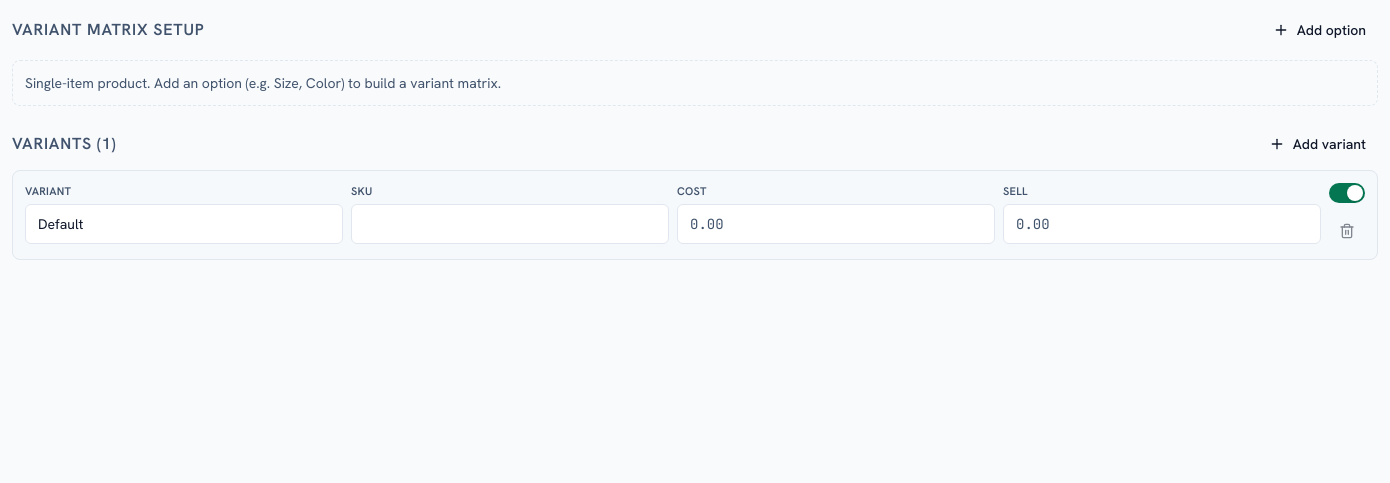
Test: VariantMatrixEditor › generates variants from option values
The width and height of the screenshot is (1390, 483).
Expected: the number of fields labelled "Variant" is 1, x1=25 y1=204 x2=343 y2=244
Click the button "Add option" at (1319, 30), box x1=1261 y1=12 x2=1378 y2=48
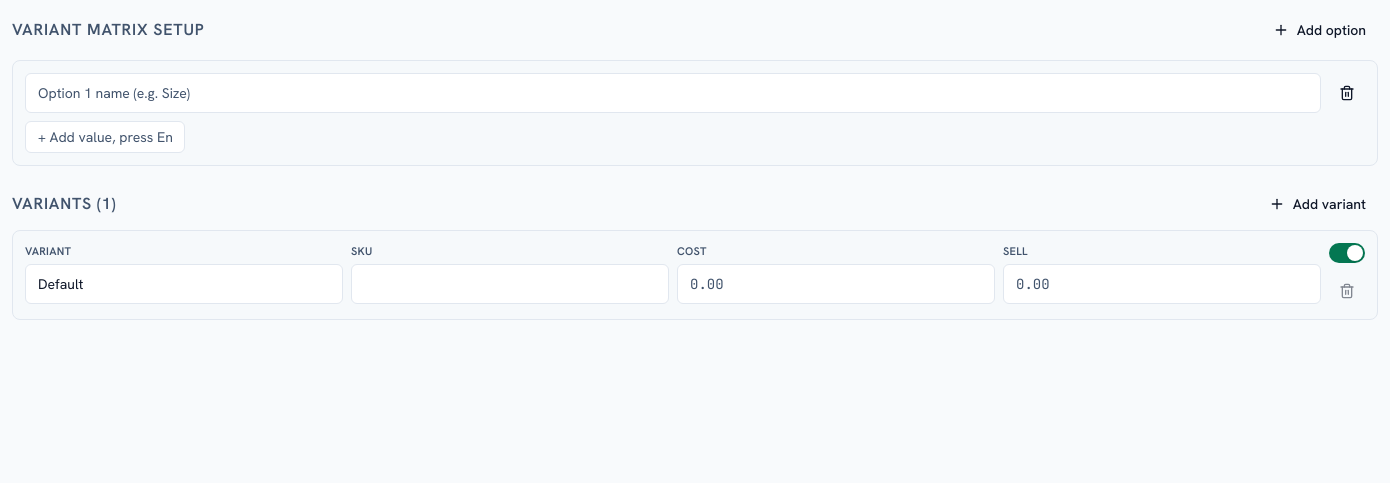
Type "Size" into the field labelled "Option 1 name" at (673, 93), box x1=25 y1=73 x2=1321 y2=113
Type "12oz" into the field named "Add value to option 1" at (105, 137), box x1=25 y1=121 x2=185 y2=153
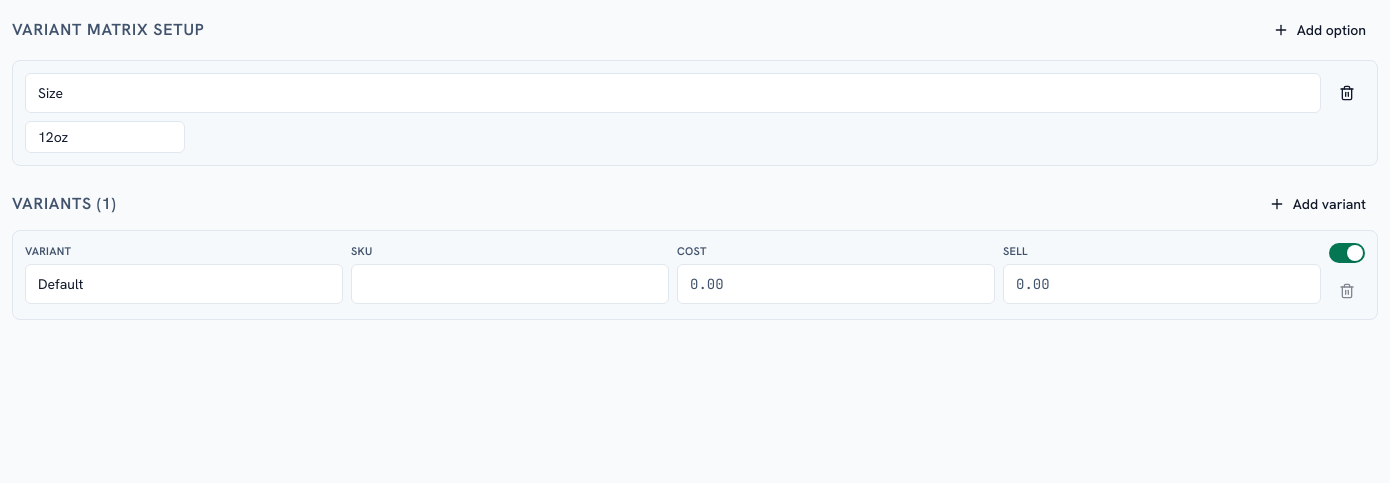
Press Enter in the field named "Add value to option 1", box x1=25 y1=121 x2=185 y2=153
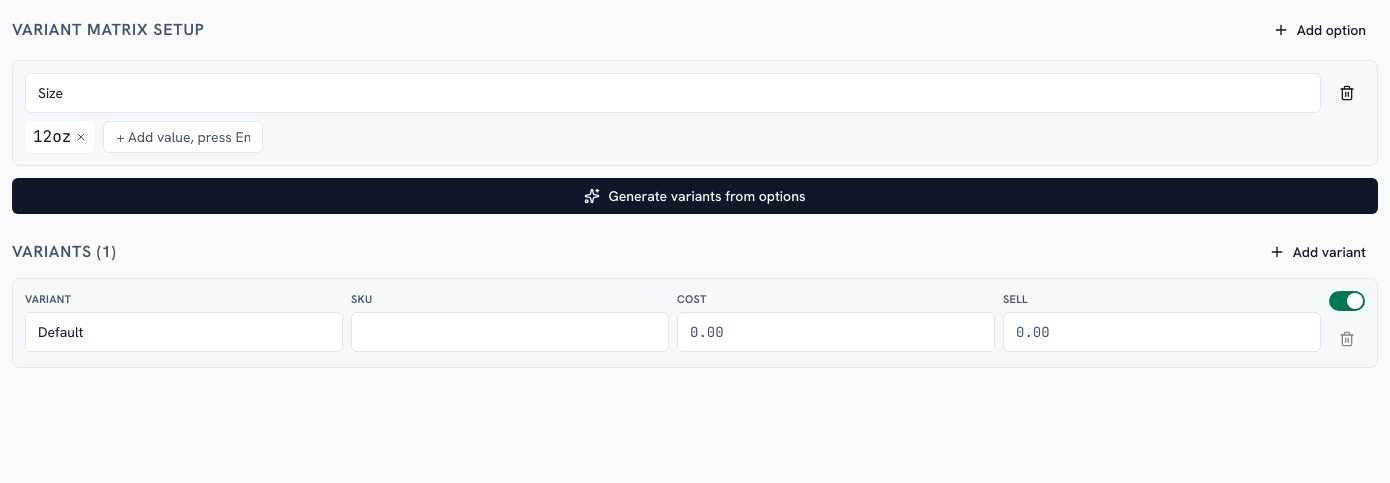
Type "16oz" into the field named "Add value to option 1" at (183, 137), box x1=103 y1=121 x2=263 y2=153
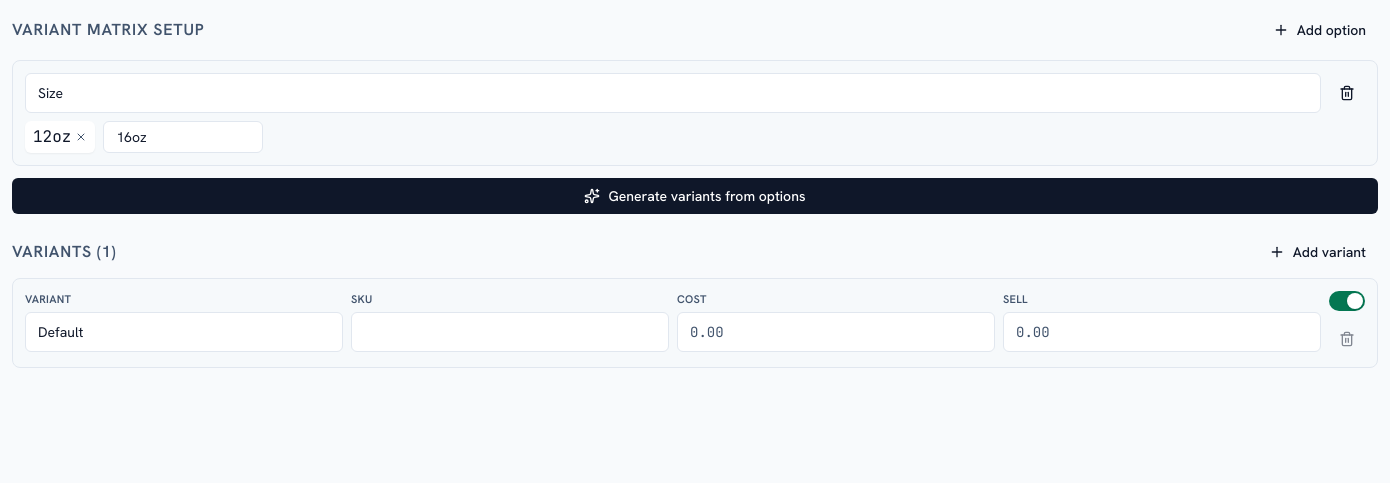
Press Enter in the field named "Add value to option 1", box x1=103 y1=121 x2=263 y2=153
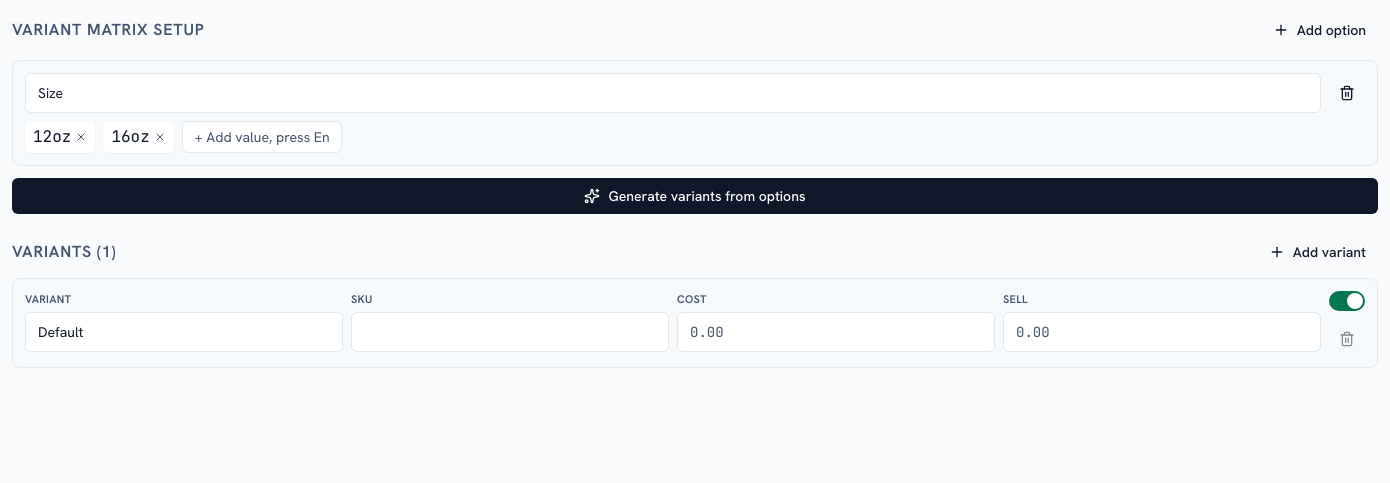
Click the button "Generate variants from options" at (695, 196), box x1=12 y1=178 x2=1378 y2=214
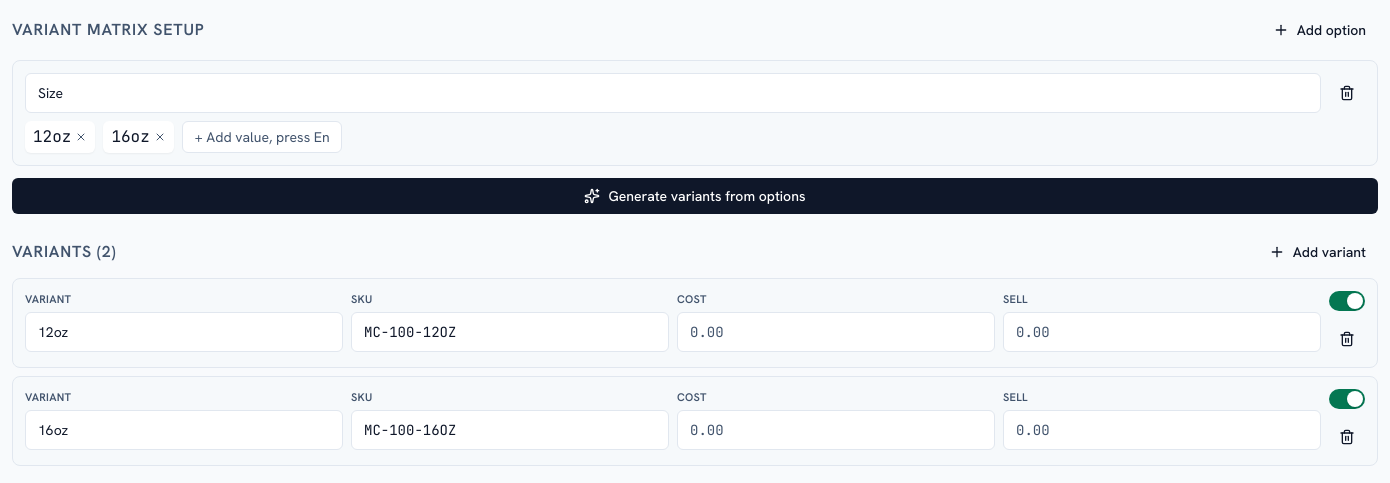
Result: the number of fields labelled "Variant" is 2 at x1=25 y1=312 x2=343 y2=352; x1=25 y1=410 x2=343 y2=450
